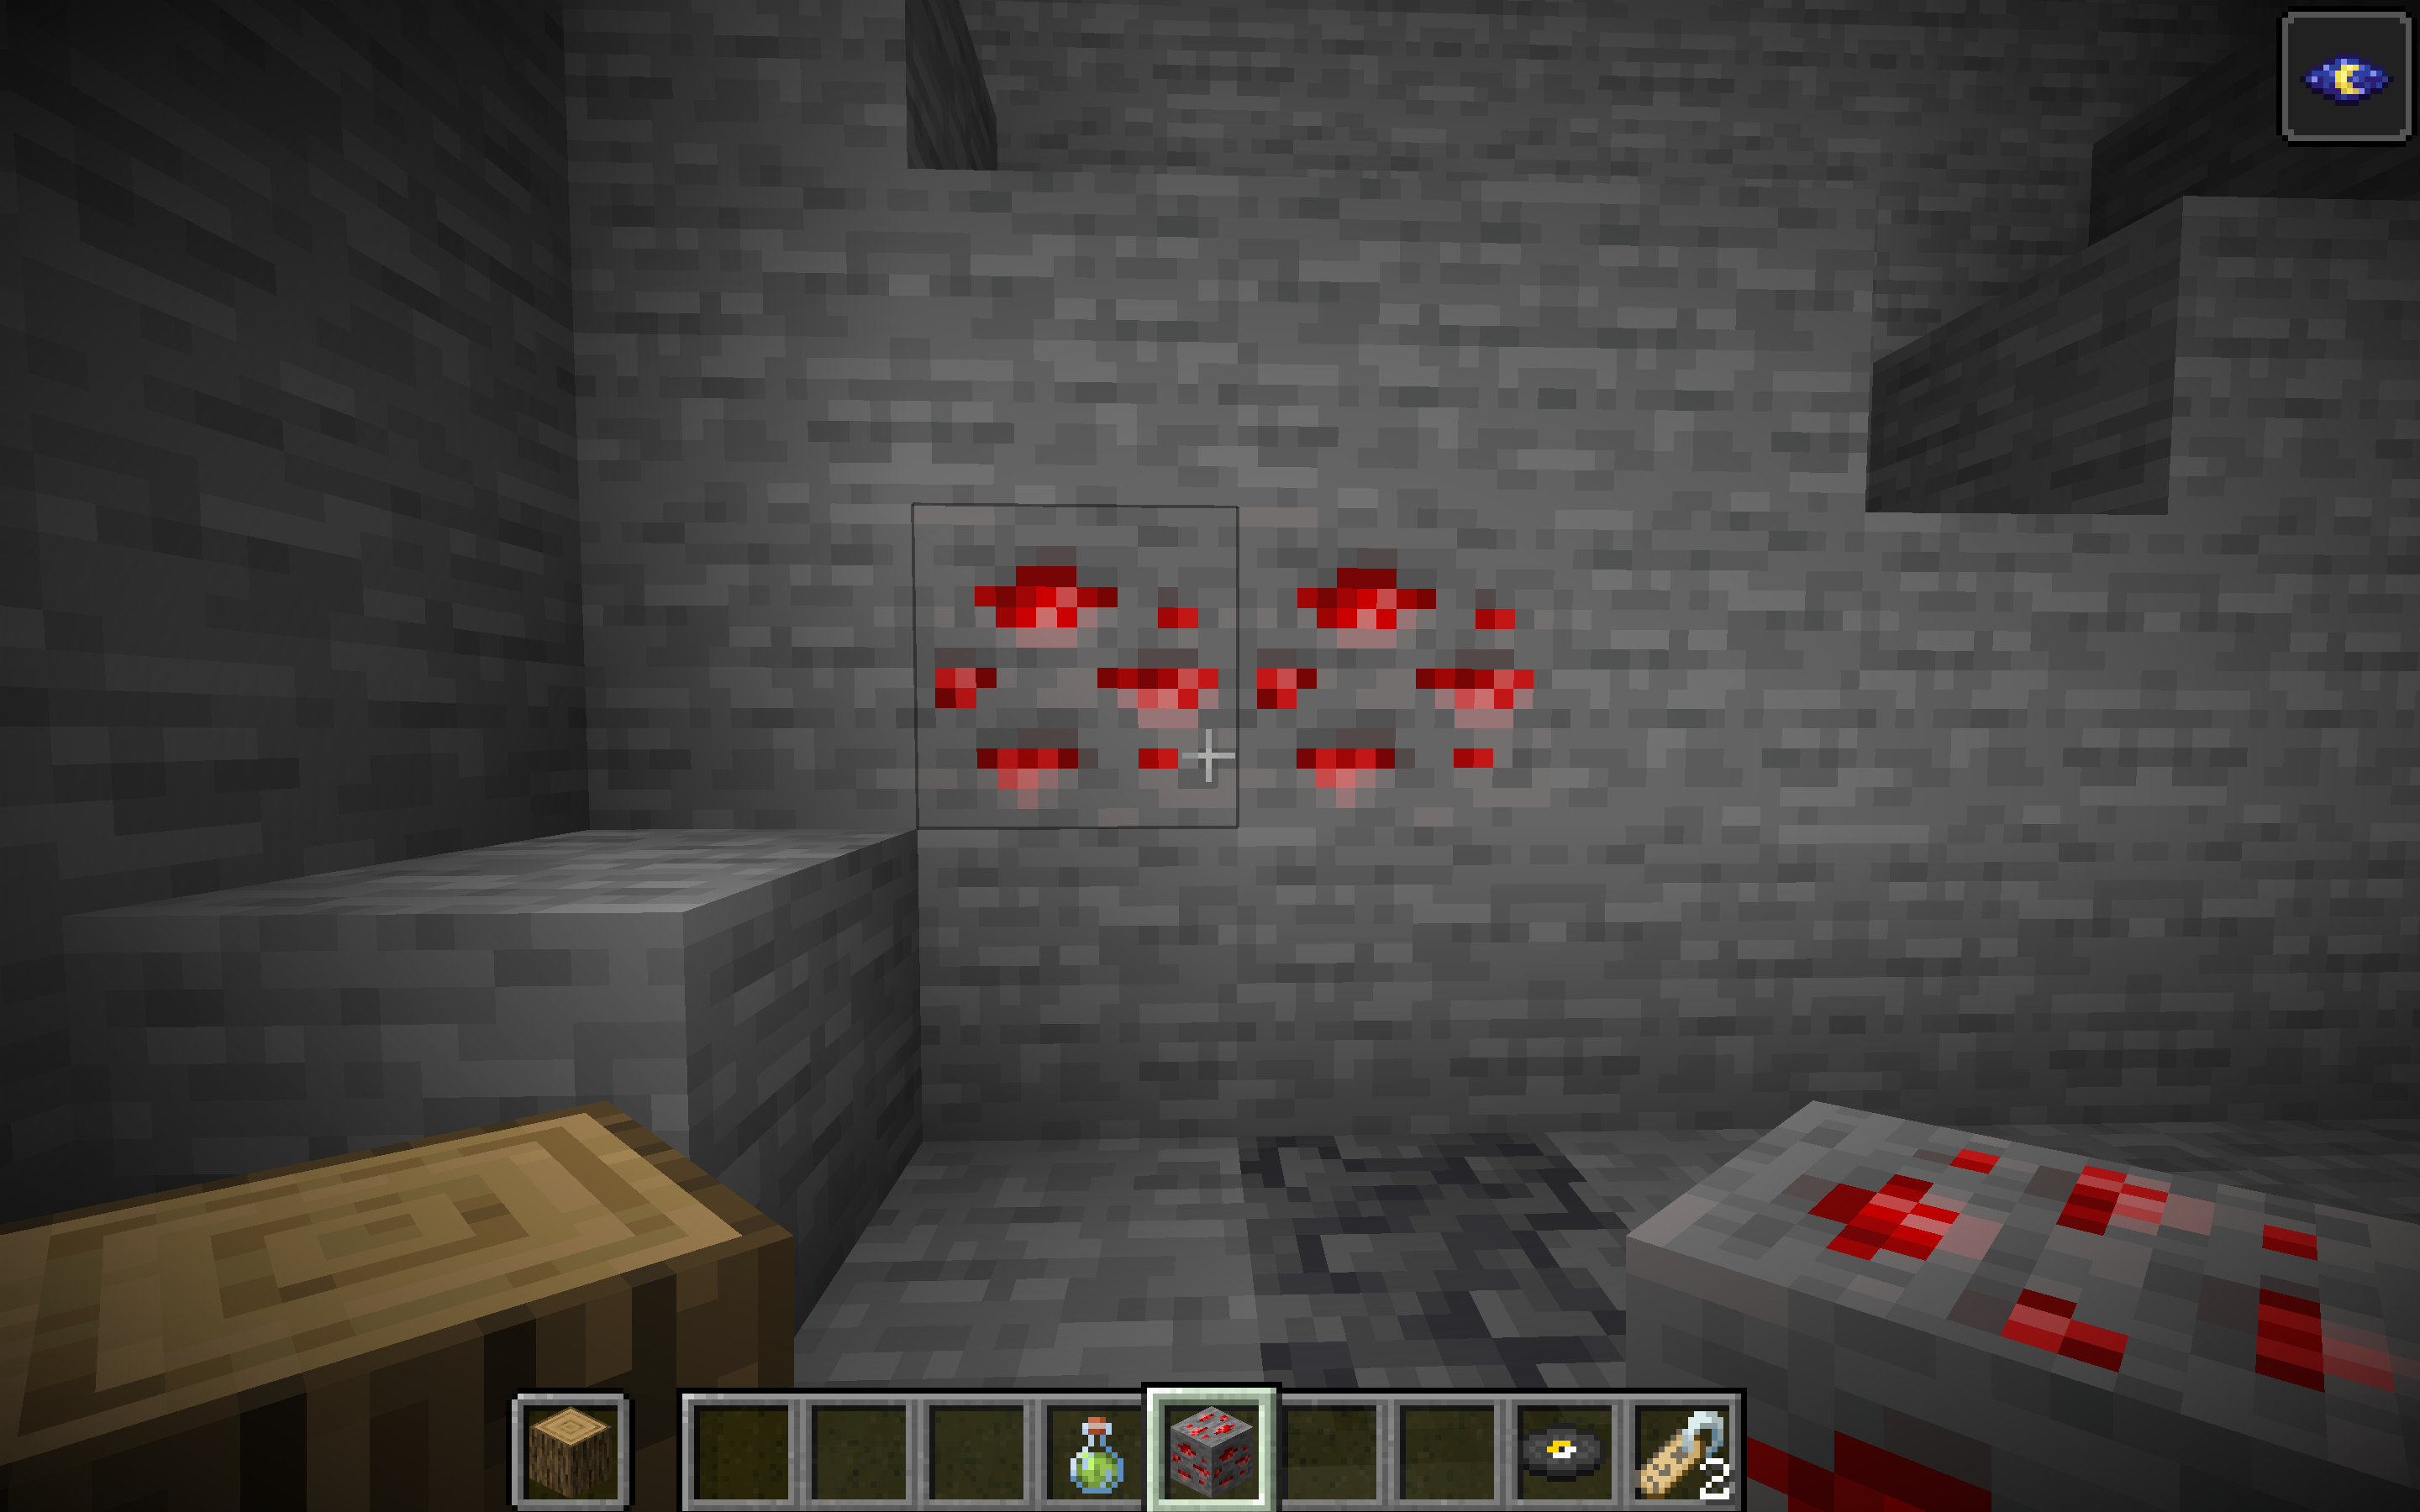redstone: (533, 317, 1803, 1117)
